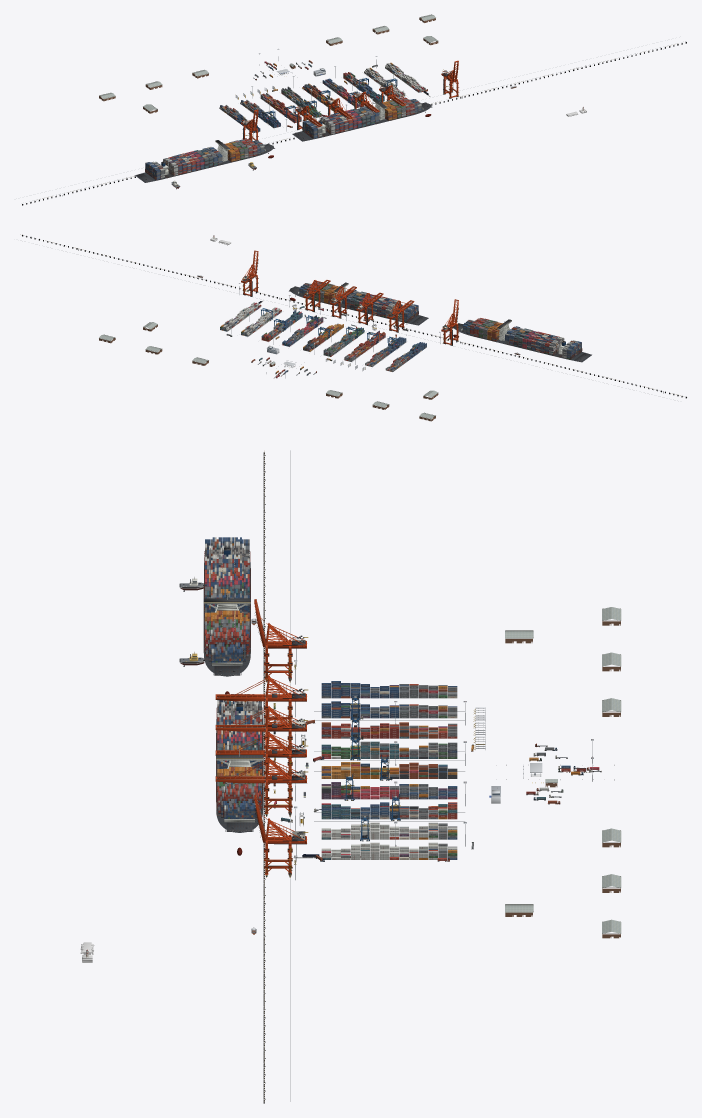
Rendered from scene.rest.glb.
3 renders of one model, top to bottom at view 1: azimuth 30°, elevation 25°; view 2: azimuth 150°, elevation 25°; view 3: azimuth 270°, elevation 25°, orthographic. The views are drawn at different scales.
Parts seen in each view (by area): view 1: container_atlas, sts_paint, ship_deck, warehouse_roof, modular_factory_facade_brick, rmg_paint, ship_white, steel_grey; view 2: container_atlas, sts_paint, ship_deck, warehouse_roof, fender_rubber, rmg_paint, modular_factory_facade_brick, steel_grey, steel_dark; view 3: container_atlas, sts_paint, ship_deck, warehouse_roof, fender_rubber, steel_dark, ship_white.
Boxes of the visible parts, left/top/right/bottom form: container_atlas: left=145, top=60, right=427, bottom=179; sts_paint: left=241, top=60, right=458, bottom=140; ship_deck: left=135, top=102, right=432, bottom=182; warehouse_roof: left=99, top=14, right=438, bottom=111; modular_factory_facade_brick: left=99, top=17, right=438, bottom=113; rmg_paint: left=263, top=78, right=397, bottom=122; ship_white: left=160, top=100, right=430, bottom=175; steel_grey: left=215, top=71, right=448, bottom=149; container_atlas: left=220, top=281, right=581, bottom=377; sts_paint: left=241, top=250, right=458, bottom=344; ship_deck: left=289, top=286, right=591, bottom=362; warehouse_roof: left=99, top=322, right=438, bottom=419; fender_rubber: left=22, top=235, right=686, bottom=398; rmg_paint: left=261, top=308, right=399, bottom=348; modular_factory_facade_brick: left=99, top=324, right=438, bottom=421; steel_grey: left=242, top=276, right=511, bottom=345; steel_dark: left=243, top=276, right=586, bottom=359; container_atlas: left=205, top=537, right=599, bottom=860; sts_paint: left=215, top=599, right=306, bottom=874; ship_deck: left=203, top=548, right=263, bottom=832; warehouse_roof: left=505, top=607, right=621, bottom=933; fender_rubber: left=179, top=452, right=264, bottom=1103; steel_dark: left=213, top=547, right=400, bottom=876; ship_white: left=204, top=554, right=263, bottom=831.
Size of what is drawn, in the model's own units: 2000 by 129 by 701.
108 materials, 17 textured.
